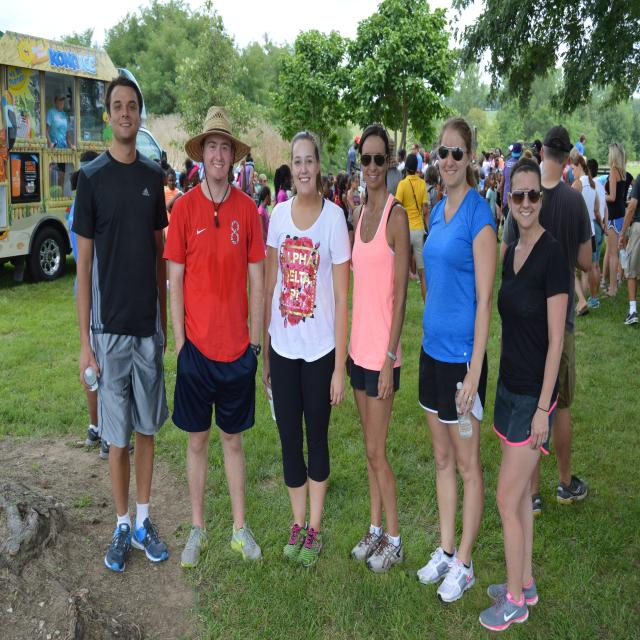body: (65, 72, 174, 572), (158, 101, 268, 574), (475, 155, 574, 636), (412, 114, 500, 608), (492, 120, 597, 524), (262, 127, 354, 574), (341, 118, 412, 579), (66, 147, 136, 463), (382, 134, 449, 218), (571, 154, 605, 318), (395, 153, 430, 306), (598, 141, 630, 302), (596, 217, 640, 327), (471, 143, 512, 245), (584, 157, 610, 310), (46, 89, 76, 198), (166, 155, 207, 220), (404, 216, 432, 310), (346, 172, 366, 272), (228, 151, 260, 209), (500, 142, 522, 222), (258, 185, 272, 299), (560, 132, 588, 189), (620, 150, 640, 218), (512, 139, 544, 179), (317, 168, 346, 209), (164, 168, 180, 240), (272, 163, 294, 205), (252, 173, 269, 215), (346, 136, 361, 178), (339, 174, 350, 226), (283, 168, 294, 202), (356, 164, 368, 192), (597, 172, 610, 189)
